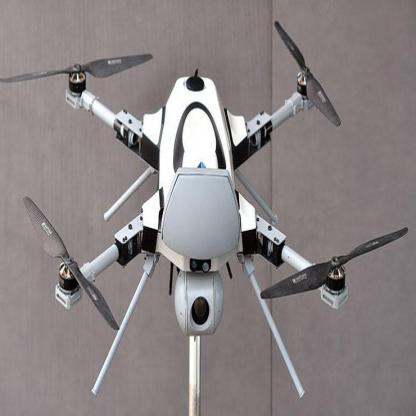drone: (16, 41, 408, 373)
